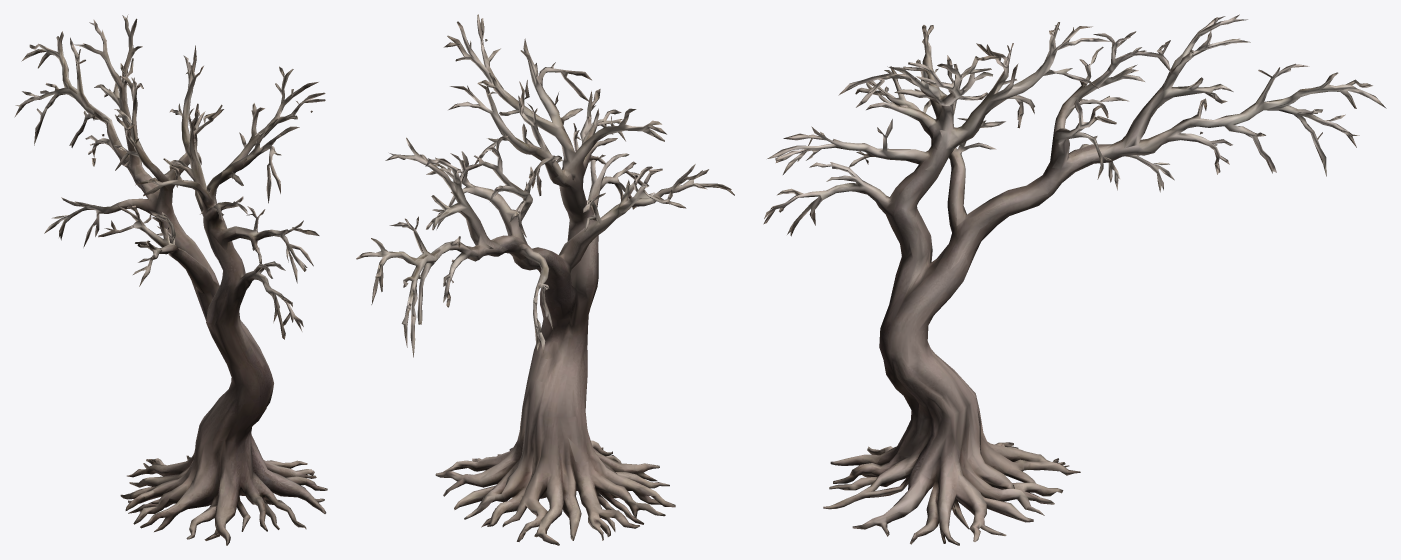
The model's file is pale-dead-tree.glb.
The picture shows the model from 3 angles, left to right: view 1: azimuth 30°, elevation 25°; view 2: azimuth 150°, elevation 25°; view 3: azimuth 270°, elevation 25°; orthographic projection. The views are drawn at different scales.
Parts seen in each view (by area): view 1: Landscape asset / pale-dead-tree; view 2: Landscape asset / pale-dead-tree; view 3: Landscape asset / pale-dead-tree.
Boxes of the visible parts, x1,y1,x2,y2 form: Landscape asset / pale-dead-tree: [14, 14, 327, 545]; Landscape asset / pale-dead-tree: [356, 14, 734, 545]; Landscape asset / pale-dead-tree: [763, 14, 1386, 545].
Bounding box in the file's own units: 0.4897 × 0.8585 × 1.
Materials: 1 (1 with a texture image).
